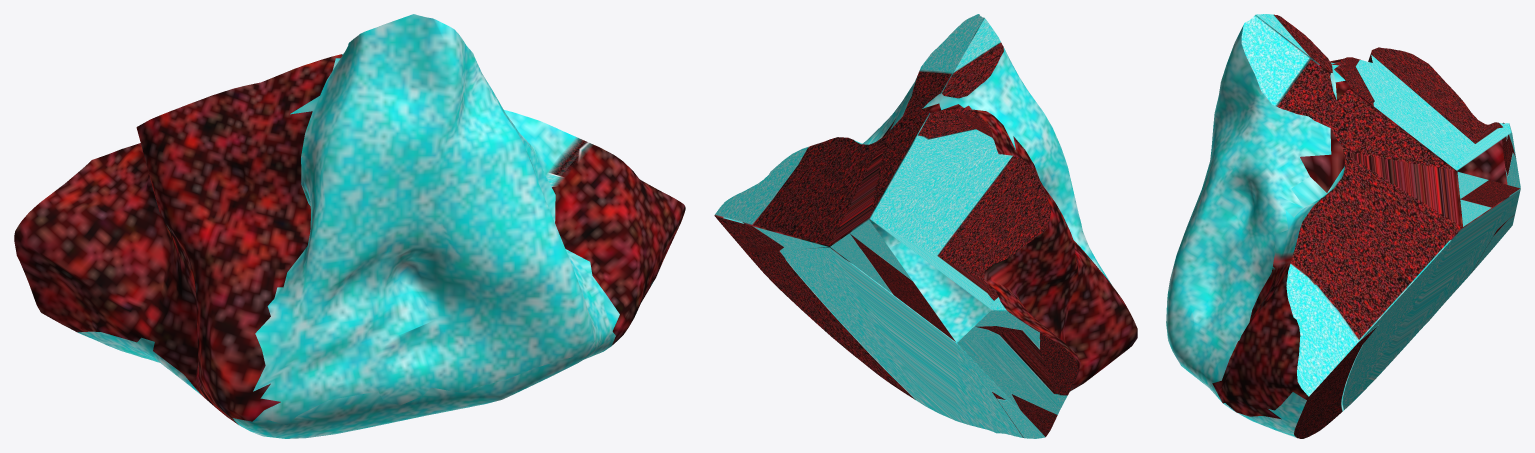
3 views of the same model, side by side, from view 1: azimuth 30°, elevation 25°; view 2: azimuth 150°, elevation 25°; view 3: azimuth 270°, elevation 25° (orthographic). The views are drawn at different scales.
Parts seen in each view (by area): view 1: SM_VFX_Withered_Spike_06_LOD0; view 2: SM_VFX_Withered_Spike_06_LOD0; view 3: SM_VFX_Withered_Spike_06_LOD0.
Part boxes in pixels (x1,y1,x2,y2): SM_VFX_Withered_Spike_06_LOD0: (14, 14, 685, 438); SM_VFX_Withered_Spike_06_LOD0: (714, 14, 1137, 438); SM_VFX_Withered_Spike_06_LOD0: (1166, 14, 1520, 438).
Bounding box in the file's own units: 11.8 × 8.94 × 7.5.
1 material, 1 textured.
